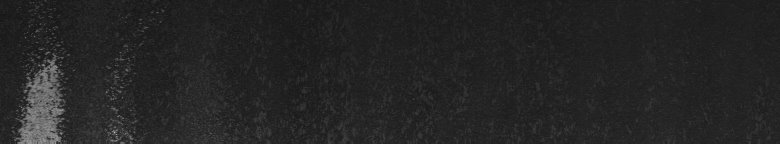kb: (20, 22, 64, 136)
